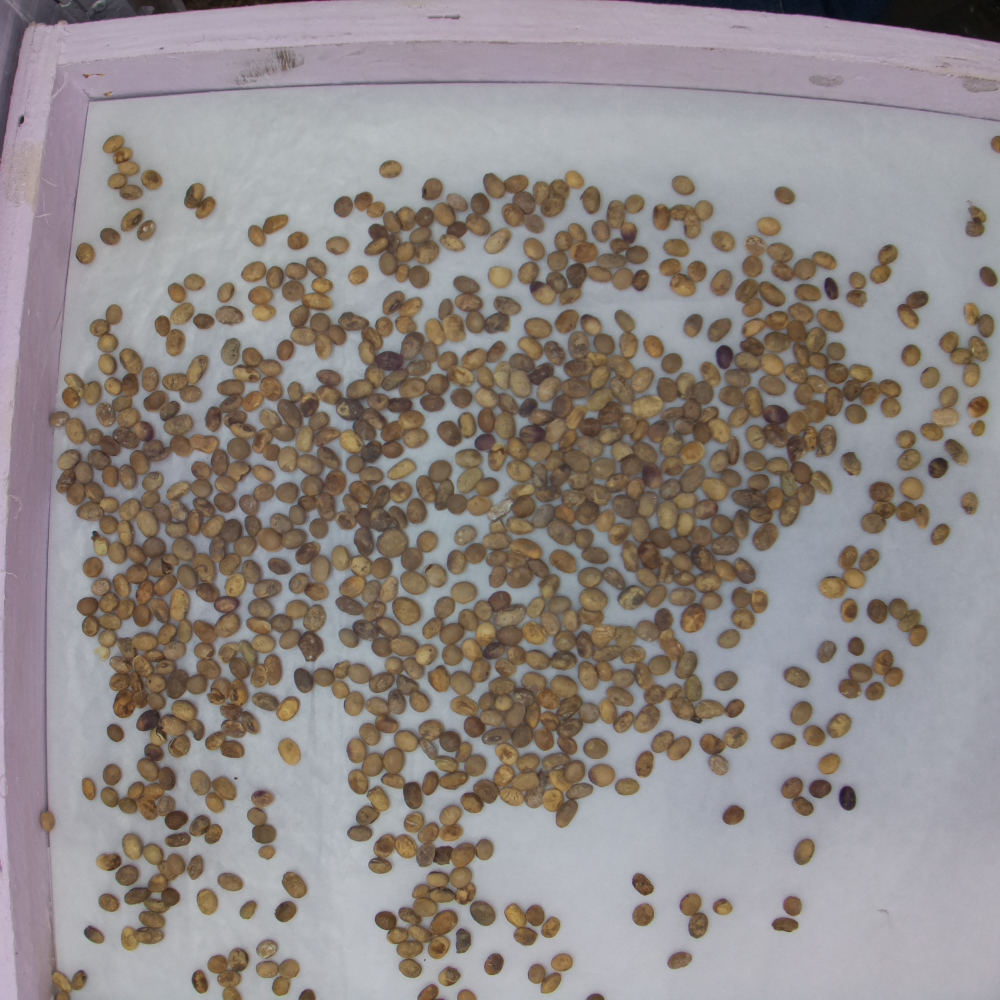damage: (392, 595, 422, 626), (632, 395, 664, 420), (301, 630, 324, 664), (752, 523, 778, 553), (148, 553, 178, 579), (554, 795, 577, 828), (186, 355, 210, 386), (380, 531, 407, 558), (635, 704, 660, 733), (399, 330, 424, 359), (278, 736, 302, 766), (694, 698, 726, 720), (680, 465, 706, 492), (579, 588, 608, 612), (659, 630, 683, 659), (381, 747, 405, 776), (317, 492, 338, 525), (292, 663, 315, 693), (763, 422, 789, 448), (427, 667, 453, 693), (401, 571, 428, 596), (558, 694, 583, 721), (571, 240, 598, 265), (164, 412, 192, 436), (312, 425, 340, 449), (672, 698, 700, 722), (590, 764, 618, 788), (322, 469, 345, 498), (214, 305, 244, 327), (277, 698, 302, 724), (564, 449, 591, 473), (708, 418, 732, 445), (90, 402, 117, 426), (161, 714, 188, 738), (618, 586, 646, 609), (417, 718, 445, 741), (369, 785, 392, 813), (447, 550, 469, 579), (194, 554, 216, 583), (167, 670, 189, 699), (169, 589, 190, 619), (531, 279, 556, 304), (299, 452, 324, 477), (827, 713, 852, 738), (432, 912, 457, 937), (549, 521, 575, 545), (295, 541, 321, 565), (452, 580, 478, 604), (485, 228, 511, 252), (438, 422, 462, 448), (135, 708, 161, 732), (184, 718, 208, 744), (944, 440, 968, 466), (473, 901, 497, 927), (638, 541, 661, 568), (472, 779, 499, 802), (711, 536, 742, 556), (550, 551, 578, 573), (196, 659, 224, 681), (636, 745, 654, 779), (346, 737, 367, 766), (365, 749, 386, 778), (378, 422, 410, 441), (691, 545, 715, 570), (404, 780, 424, 810), (440, 770, 470, 790), (425, 318, 445, 348), (263, 654, 283, 684), (598, 402, 624, 425), (577, 435, 603, 458), (703, 477, 729, 500), (732, 489, 765, 507), (683, 605, 705, 632), (458, 466, 480, 493), (196, 889, 218, 916), (767, 916, 800, 934), (781, 497, 800, 528), (256, 529, 284, 550), (412, 643, 440, 664), (114, 691, 135, 719), (496, 606, 525, 626), (354, 525, 374, 554), (388, 458, 417, 478), (164, 332, 188, 356), (667, 736, 691, 760), (543, 419, 568, 442), (114, 426, 139, 449), (57, 448, 82, 471), (209, 678, 232, 703), (221, 718, 246, 741), (146, 872, 171, 895), (673, 205, 698, 228), (711, 229, 736, 252), (640, 462, 662, 488), (587, 389, 613, 411), (550, 676, 576, 698), (817, 309, 843, 331), (263, 214, 289, 236), (120, 350, 142, 376), (125, 564, 151, 586), (671, 275, 697, 297), (512, 540, 542, 559), (134, 926, 164, 945), (162, 809, 189, 830), (860, 511, 887, 532), (563, 379, 591, 399), (676, 652, 696, 680), (417, 474, 437, 502), (453, 275, 481, 295), (233, 714, 261, 734), (583, 185, 603, 213), (622, 541, 640, 572), (576, 501, 599, 525), (310, 556, 333, 580), (424, 564, 448, 587), (450, 670, 473, 694), (357, 722, 380, 746), (465, 755, 489, 778), (117, 407, 141, 430), (562, 166, 585, 190), (630, 904, 654, 927), (221, 338, 240, 367), (230, 680, 249, 709), (612, 378, 634, 403), (760, 283, 785, 305), (369, 485, 391, 510), (453, 694, 478, 716), (553, 733, 578, 755), (383, 370, 408, 392), (218, 614, 240, 639), (564, 759, 586, 784), (184, 183, 205, 209), (735, 557, 756, 583), (377, 576, 398, 602), (511, 727, 537, 748), (483, 173, 504, 199), (376, 350, 402, 371), (65, 374, 86, 400), (144, 441, 170, 462), (569, 332, 589, 359), (634, 663, 654, 690), (676, 372, 696, 399), (824, 387, 844, 414), (533, 725, 553, 752), (66, 418, 86, 445), (130, 448, 150, 475), (138, 511, 158, 538), (76, 502, 103, 522), (578, 662, 597, 690), (407, 498, 426, 526), (349, 767, 368, 795), (280, 447, 299, 475), (756, 218, 784, 237), (636, 619, 659, 642), (355, 804, 378, 827), (417, 240, 440, 263), (159, 400, 182, 423), (154, 574, 177, 597), (897, 306, 920, 329), (898, 449, 921, 472), (121, 208, 143, 232), (633, 441, 657, 463), (681, 442, 705, 464), (538, 377, 560, 401), (522, 673, 546, 695), (787, 412, 809, 436), (523, 237, 545, 261), (242, 262, 266, 284), (318, 447, 340, 471), (192, 621, 216, 643), (168, 734, 192, 756), (548, 769, 570, 793), (395, 833, 417, 857), (505, 903, 527, 927), (632, 872, 656, 894), (613, 496, 638, 517), (633, 367, 654, 392), (339, 576, 364, 597), (383, 290, 404, 315), (201, 514, 222, 539), (143, 538, 168, 559), (141, 910, 166, 931), (229, 949, 250, 974), (939, 331, 960, 356), (657, 502, 677, 528), (607, 687, 633, 707), (765, 332, 791, 352), (785, 666, 811, 686), (821, 578, 847, 598), (838, 785, 858, 811), (454, 450, 481, 469), (390, 635, 417, 654), (121, 372, 140, 399), (192, 434, 219, 453), (905, 342, 924, 369), (455, 928, 474, 955), (820, 425, 836, 457), (608, 200, 625, 230), (531, 505, 554, 527), (603, 569, 626, 591), (763, 354, 786, 376), (708, 319, 731, 341), (469, 494, 491, 517), (348, 380, 371, 402), (663, 237, 686, 259), (224, 575, 247, 597), (213, 779, 236, 801), (840, 453, 862, 476), (725, 727, 748, 749), (428, 935, 450, 958), (781, 776, 804, 798), (646, 583, 667, 607), (745, 388, 763, 416), (729, 406, 750, 430), (732, 608, 756, 629), (395, 729, 419, 750), (381, 770, 405, 791), (422, 769, 440, 797), (614, 309, 635, 333), (455, 292, 483, 310), (172, 305, 196, 326), (227, 439, 251, 460), (296, 425, 314, 453), (116, 865, 140, 886), (375, 834, 396, 858), (524, 786, 545, 810), (507, 461, 532, 481), (523, 623, 548, 643), (740, 336, 765, 356), (658, 377, 678, 402), (682, 399, 702, 424), (263, 377, 283, 402), (254, 692, 279, 712), (651, 732, 676, 752), (796, 839, 816, 864), (436, 480, 452, 511), (217, 380, 248, 396), (585, 485, 611, 504), (712, 270, 731, 296), (368, 674, 394, 693), (440, 233, 466, 252), (170, 701, 196, 720), (187, 854, 206, 880), (868, 598, 887, 624), (690, 912, 709, 938), (639, 492, 657, 519), (598, 251, 625, 269), (192, 768, 210, 795), (514, 773, 541, 791), (519, 338, 541, 360), (174, 539, 196, 561), (501, 786, 523, 808), (566, 406, 587, 429), (496, 414, 517, 437), (765, 405, 788, 426), (416, 531, 439, 552), (372, 510, 395, 531), (220, 553, 241, 576), (443, 623, 466, 644), (579, 700, 600, 723), (400, 297, 423, 318), (362, 325, 383, 348), (487, 312, 510, 333), (88, 450, 111, 471), (164, 640, 187, 661), (190, 814, 211, 837), (286, 874, 307, 897), (792, 701, 813, 724), (680, 894, 703, 915), (661, 456, 685, 476), (513, 496, 537, 516), (539, 575, 559, 599), (546, 341, 566, 365), (221, 519, 241, 543), (303, 294, 333, 310), (317, 385, 341, 405), (145, 390, 169, 410), (182, 272, 206, 292), (254, 430, 274, 454), (123, 835, 143, 859), (280, 956, 300, 980), (964, 359, 980, 389), (922, 422, 946, 442), (454, 842, 474, 866), (254, 580, 282, 597), (95, 854, 123, 871), (578, 568, 603, 587), (506, 568, 531, 587), (512, 371, 531, 396), (525, 651, 550, 670), (807, 327, 826, 352), (747, 425, 766, 450), (477, 709, 502, 728), (314, 335, 333, 360), (519, 260, 538, 285), (568, 264, 587, 289), (446, 316, 465, 341), (282, 402, 301, 427), (196, 584, 221, 603), (221, 740, 246, 759), (253, 823, 278, 842), (839, 544, 858, 569), (541, 788, 560, 813), (566, 360, 592, 378), (551, 652, 577, 670), (232, 538, 258, 556), (348, 824, 374, 842), (495, 296, 521, 314), (448, 367, 474, 385), (402, 429, 428, 447), (110, 396, 136, 414), (272, 424, 298, 442), (970, 336, 988, 362), (683, 676, 701, 702), (397, 940, 423, 958), (593, 647, 624, 662), (339, 313, 368, 329), (222, 412, 251, 428), (592, 625, 613, 647), (786, 320, 807, 342), (736, 280, 757, 302), (806, 401, 827, 423), (845, 403, 866, 425), (812, 471, 833, 493), (713, 560, 735, 581), (431, 460, 453, 481), (442, 643, 463, 665), (462, 717, 483, 739), (349, 663, 371, 684), (408, 265, 429, 287), (293, 325, 315, 346), (462, 349, 484, 370), (340, 430, 361, 452), (84, 557, 105, 579), (900, 610, 921, 632), (819, 754, 841, 775), (440, 805, 462, 826), (452, 868, 474, 889), (649, 421, 669, 444), (508, 439, 528, 462), (654, 607, 674, 630), (717, 629, 740, 649), (360, 581, 380, 604), (407, 691, 430, 711), (503, 204, 523, 227), (490, 267, 513, 287), (351, 482, 374, 502), (227, 461, 250, 481), (253, 789, 276, 809), (840, 680, 863, 700), (702, 735, 725, 755), (437, 966, 460, 986), (540, 972, 563, 992), (506, 517, 533, 534), (577, 609, 604, 626), (525, 319, 552, 336), (489, 677, 516, 694), (346, 690, 363, 717), (653, 204, 670, 231), (240, 640, 257, 667), (553, 394, 572, 418), (241, 560, 260, 584), (470, 658, 489, 682), (379, 159, 403, 178), (434, 201, 453, 225), (397, 242, 416, 266), (286, 231, 310, 250), (357, 340, 376, 364), (616, 265, 635, 289), (243, 391, 262, 415), (118, 466, 137, 490), (177, 564, 196, 588), (249, 600, 273, 619), (876, 379, 900, 398), (968, 396, 987, 420), (416, 843, 435, 867), (527, 904, 546, 928), (485, 953, 504, 977), (796, 284, 821, 302), (742, 319, 767, 337), (390, 504, 408, 529), (354, 621, 379, 639), (204, 407, 222, 432), (92, 531, 110, 556), (308, 606, 326, 631), (980, 265, 998, 290), (542, 915, 560, 940), (667, 951, 692, 969), (143, 896, 171, 912), (519, 426, 545, 443), (583, 547, 609, 564), (678, 512, 695, 538), (489, 444, 506, 470), (751, 588, 768, 614), (218, 874, 244, 891), (124, 886, 150, 903), (868, 484, 894, 501), (745, 235, 766, 256), (302, 476, 323, 497), (435, 598, 456, 619), (423, 619, 444, 640), (367, 694, 388, 715), (422, 178, 443, 199), (73, 462, 94, 483), (223, 702, 244, 723), (137, 798, 158, 819), (494, 743, 515, 764), (433, 845, 454, 866), (783, 896, 804, 917), (196, 197, 216, 219), (661, 435, 683, 455), (528, 442, 550, 462), (532, 364, 554, 384), (611, 357, 633, 377), (732, 586, 752, 608), (352, 555, 372, 577), (463, 638, 483, 660), (504, 703, 524, 725), (353, 191, 373, 213), (468, 215, 490, 235), (306, 256, 326, 278), (353, 420, 375, 440), (168, 283, 188, 305), (171, 436, 191, 458), (310, 411, 330, 433), (120, 498, 140, 520), (138, 759, 158, 781), (246, 806, 268, 826), (120, 927, 140, 949), (52, 971, 74, 991), (882, 396, 902, 418), (859, 548, 879, 570), (492, 767, 514, 787), (461, 794, 483, 814), (649, 528, 672, 547), (476, 477, 499, 496), (701, 362, 720, 385), (715, 672, 738, 691), (276, 482, 299, 501), (402, 658, 425, 677), (523, 213, 546, 232), (285, 262, 308, 281), (395, 315, 418, 334), (290, 304, 309, 327), (61, 387, 80, 410), (167, 482, 190, 501), (81, 615, 100, 638), (156, 794, 175, 817), (673, 176, 696, 195), (688, 260, 707, 283), (951, 347, 974, 366), (921, 365, 940, 388), (733, 510, 748, 539), (591, 459, 615, 477), (577, 631, 593, 658), (497, 628, 524, 644), (769, 243, 793, 261), (710, 449, 728, 473), (789, 435, 805, 462), (696, 573, 720, 591), (670, 589, 697, 605), (401, 381, 428, 397), (192, 313, 216, 331), (231, 424, 258, 440), (154, 597, 170, 624), (868, 266, 892, 284), (849, 664, 873, 682), (409, 925, 433, 943), (760, 377, 785, 394), (726, 370, 751, 387), (693, 420, 710, 445), (558, 719, 583, 736), (251, 304, 276, 321), (193, 969, 210, 994), (875, 649, 892, 674), (373, 912, 398, 929), (580, 418, 600, 439), (549, 465, 569, 486), (638, 566, 658, 587), (591, 367, 611, 388), (498, 393, 519, 413), (486, 341, 506, 362), (483, 534, 511, 549), (742, 298, 763, 318), (742, 256, 763, 276), (694, 383, 714, 404), (289, 574, 310, 594), (456, 527, 477, 547), (514, 192, 535, 212), (377, 254, 398, 274), (548, 271, 568, 292), (569, 224, 589, 245), (466, 310, 486, 331), (428, 375, 449, 395), (261, 408, 281, 429), (66, 484, 86, 505), (187, 674, 208, 694), (230, 659, 250, 680), (724, 805, 744, 826), (141, 170, 163, 189), (629, 421, 651, 440), (554, 506, 576, 525), (615, 625, 634, 647), (554, 632, 576, 651), (476, 623, 495, 645), (720, 386, 742, 405), (661, 353, 683, 372), (792, 460, 811, 482), (269, 513, 291, 532), (393, 481, 412, 503), (466, 545, 488, 564), (585, 739, 607, 758), (283, 281, 305, 300), (561, 286, 583, 305), (260, 360, 282, 379), (220, 395, 242, 414), (286, 601, 308, 620), (109, 674, 131, 693), (105, 764, 124, 786), (804, 727, 826, 746), (527, 962, 546, 984), (551, 953, 573, 972), (333, 544, 349, 570), (460, 412, 476, 438), (84, 380, 100, 406), (212, 449, 228, 475), (77, 242, 95, 265), (530, 463, 548, 486), (790, 304, 813, 322), (765, 312, 788, 330), (685, 314, 703, 337), (771, 262, 794, 280), (539, 709, 557, 732), (377, 619, 400, 637), (47, 412, 70, 430), (103, 435, 121, 458), (135, 421, 153, 444), (190, 480, 213, 498), (143, 473, 166, 491), (254, 634, 277, 652), (207, 730, 225, 753), (901, 480, 924, 498), (516, 754, 539, 772), (402, 814, 425, 832), (568, 472, 592, 489), (632, 517, 649, 541), (736, 353, 760, 370), (813, 251, 837, 268), (695, 501, 719, 518), (389, 690, 406, 714), (420, 736, 437, 760), (363, 411, 387, 428), (113, 573, 130, 597), (217, 971, 241, 988), (335, 599, 364, 613), (494, 363, 509, 390), (397, 412, 424, 427), (119, 520, 134, 547), (597, 428, 622, 444), (787, 363, 807, 383), (493, 660, 518, 676), (745, 451, 765, 471), (750, 506, 775, 522), (336, 510, 356, 530), (267, 559, 292, 575), (492, 691, 512, 711), (537, 690, 557, 710), (473, 193, 489, 218), (658, 259, 683, 275), (407, 360, 432, 376), (360, 467, 385, 483), (273, 613, 293, 633), (81, 776, 97, 801), (258, 938, 278, 958), (549, 179, 569, 199), (841, 599, 857, 624), (568, 784, 593, 800), (368, 858, 393, 874), (514, 929, 539, 945), (793, 795, 813, 815), (847, 289, 868, 308), (795, 259, 814, 280), (383, 212, 402, 233), (448, 220, 469, 239), (375, 316, 394, 337), (549, 250, 568, 271), (242, 347, 263, 366), (144, 844, 163, 865), (238, 901, 259, 920), (929, 457, 948, 478), (725, 700, 746, 719), (418, 823, 439, 842), (102, 135, 124, 153), (645, 336, 663, 358), (460, 609, 478, 631), (476, 388, 498, 406), (361, 442, 383, 460), (217, 280, 235, 302), (56, 470, 74, 492), (86, 483, 104, 505), (207, 793, 225, 815), (775, 186, 797, 204), (907, 290, 929, 308), (826, 364, 848, 382), (967, 202, 985, 224), (963, 304, 981, 326), (708, 757, 730, 775), (545, 753, 567, 771), (476, 838, 494, 860), (233, 368, 261, 382), (607, 474, 630, 491), (478, 409, 495, 432), (382, 656, 405, 673), (374, 715, 397, 732), (327, 238, 350, 255), (88, 319, 111, 336), (851, 365, 874, 382), (845, 380, 862, 403), (842, 571, 865, 588), (416, 983, 439, 1000), (211, 537, 226, 563), (215, 598, 241, 613), (934, 410, 960, 425), (561, 490, 585, 506), (674, 493, 698, 509), (511, 355, 535, 371), (601, 700, 617, 724), (283, 532, 307, 548), (374, 556, 390, 580), (526, 703, 542, 727), (176, 619, 192, 643), (441, 825, 465, 841), (618, 415, 638, 434), (575, 530, 595, 549), (594, 334, 614, 353), (713, 514, 732, 534), (691, 525, 710, 545), (334, 197, 353, 217), (452, 389, 472, 408), (104, 376, 123, 396), (279, 631, 298, 651), (133, 656, 152, 676), (146, 674, 165, 694), (147, 729, 166, 749), (877, 245, 897, 264), (965, 219, 985, 238), (898, 502, 918, 521), (527, 560, 548, 578), (527, 597, 545, 618), (541, 614, 559, 635), (650, 656, 671, 674), (803, 425, 817, 452), (307, 582, 328, 600), (416, 206, 434, 227), (627, 245, 648, 263), (182, 385, 203, 403), (216, 475, 237, 493), (195, 498, 216, 516), (157, 625, 175, 646), (167, 853, 185, 874), (961, 493, 979, 514), (889, 599, 907, 620), (866, 680, 884, 701), (770, 735, 797, 749), (659, 558, 674, 583), (717, 345, 732, 370), (485, 728, 510, 743), (311, 671, 336, 686), (807, 375, 829, 392), (819, 642, 836, 664), (398, 207, 415, 229), (250, 286, 272, 303), (621, 223, 638, 245), (100, 354, 117, 376), (134, 606, 151, 628), (97, 894, 119, 911), (72, 969, 89, 991), (941, 386, 958, 408), (874, 501, 896, 518), (611, 443, 634, 459), (548, 597, 571, 613), (489, 566, 505, 589), (623, 646, 646, 662), (365, 238, 388, 254), (368, 365, 384, 388), (142, 368, 158, 391), (291, 503, 307, 526), (249, 617, 272, 633), (533, 179, 549, 202), (414, 899, 437, 915), (400, 961, 423, 977), (806, 781, 829, 797), (535, 488, 561, 502), (387, 397, 413, 411), (428, 889, 456, 902), (661, 480, 680, 499), (610, 525, 629, 544), (646, 685, 665, 704), (350, 265, 369, 284), (220, 643, 239, 662), (898, 431, 917, 450), (530, 410, 554, 425), (582, 314, 600, 334), (621, 333, 636, 357), (614, 670, 634, 688), (508, 644, 526, 664), (767, 487, 785, 507), (244, 517, 262, 537), (449, 495, 467, 515), (507, 175, 527, 193), (554, 232, 574, 250), (625, 195, 645, 213), (422, 395, 446, 410), (170, 503, 188, 523), (144, 742, 164, 760), (117, 159, 138, 176), (100, 228, 121, 245), (628, 478, 645, 499), (597, 510, 614, 531), (796, 383, 813, 404), (311, 517, 328, 538), (617, 712, 634, 733), (373, 640, 394, 657), (332, 677, 349, 698), (447, 194, 468, 211), (410, 228, 431, 245), (277, 340, 294, 361), (342, 495, 359, 516), (154, 315, 171, 336), (112, 658, 133, 675), (696, 200, 713, 221), (795, 347, 812, 368), (505, 551, 527, 567), (768, 458, 790, 474), (215, 495, 237, 511), (109, 542, 125, 564), (136, 580, 152, 602), (135, 634, 157, 650), (428, 871, 450, 887), (398, 908, 420, 924), (508, 484, 535, 497), (980, 313, 994, 338), (728, 436, 740, 465), (363, 605, 386, 620), (166, 523, 189, 538), (195, 645, 218, 660), (251, 664, 266, 687), (256, 962, 279, 977), (138, 221, 156, 240), (675, 418, 694, 436), (101, 516, 120, 534), (99, 595, 117, 614), (117, 639, 135, 658), (101, 788, 119, 807), (144, 782, 162, 801), (205, 825, 223, 844), (254, 484, 274, 501), (517, 687, 534, 707), (328, 325, 345, 345), (439, 351, 456, 371), (154, 659, 174, 676), (108, 724, 125, 744), (127, 781, 144, 801), (258, 844, 278, 861), (274, 977, 291, 997), (388, 927, 408, 944), (621, 458, 642, 474), (486, 550, 507, 566), (248, 225, 264, 246), (267, 267, 283, 288), (478, 366, 494, 387), (380, 442, 404, 456), (163, 373, 184, 389), (254, 466, 275, 482), (41, 810, 55, 834), (165, 834, 193, 846), (686, 215, 700, 239), (862, 384, 878, 405), (700, 593, 722, 608), (455, 741, 470, 763), (594, 219, 609, 241), (100, 615, 122, 630), (279, 901, 294, 923), (84, 928, 106, 943), (339, 630, 357, 648), (192, 463, 210, 481), (147, 693, 165, 711), (546, 450, 563, 469), (520, 399, 537, 418), (474, 601, 491, 620), (403, 548, 420, 567), (333, 660, 350, 679), (85, 431, 104, 448), (92, 579, 111, 596), (78, 598, 97, 615), (933, 525, 950, 544), (885, 667, 902, 686), (457, 887, 476, 904), (714, 898, 733, 915), (826, 277, 840, 300), (113, 147, 133, 163), (564, 611, 580, 631), (723, 470, 743, 486), (798, 482, 814, 502), (673, 553, 693, 569), (241, 495, 257, 515), (118, 600, 134, 620), (828, 344, 848, 360), (914, 506, 930, 526), (313, 279, 334, 294), (288, 383, 303, 404), (104, 466, 119, 487), (97, 632, 118, 647), (161, 860, 176, 881), (783, 471, 796, 495), (366, 395, 390, 408), (188, 510, 201, 534), (662, 407, 684, 421), (435, 758, 457, 772), (304, 394, 318, 416), (160, 769, 174, 791), (222, 986, 244, 1000), (616, 780, 638, 794), (476, 434, 494, 451), (850, 272, 867, 290), (367, 202, 385, 219), (313, 312, 330, 330), (347, 455, 364, 473), (209, 955, 226, 973), (848, 637, 866, 654), (164, 887, 180, 906), (121, 185, 141, 200), (319, 372, 339, 387), (266, 443, 281, 463), (141, 493, 161, 508), (99, 498, 119, 513), (674, 572, 695, 586), (636, 269, 650, 290), (912, 626, 926, 647), (596, 663, 613, 680), (702, 407, 719, 424), (610, 237, 627, 254), (128, 546, 145, 563), (118, 797, 135, 814), (100, 336, 118, 352), (747, 476, 769, 489), (561, 430, 576, 449), (107, 305, 122, 324), (300, 497, 319, 512), (387, 234, 400, 255), (155, 505, 171, 522), (108, 174, 126, 189), (588, 352, 606, 367), (480, 691, 494, 710), (132, 674, 144, 696), (671, 539, 691, 552), (810, 354, 827, 369), (486, 643, 504, 657), (134, 690, 148, 708), (439, 298, 452, 317), (423, 342, 436, 361), (666, 684, 682, 699), (370, 225, 387, 239), (96, 648, 113, 662), (395, 264, 408, 282), (297, 988, 315, 1000), (412, 886, 430, 898), (972, 420, 984, 437), (145, 650, 163, 661), (991, 136, 1000, 153), (53, 993, 72, 1000), (586, 993, 605, 1000)
